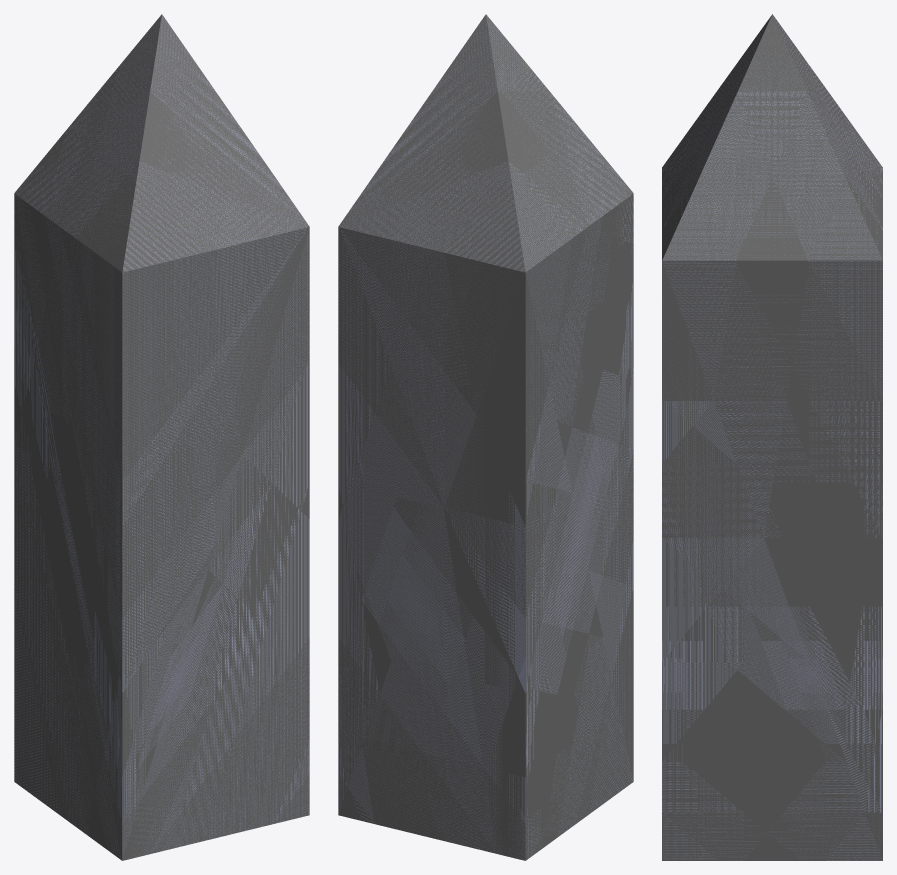
Rendered from Obelisk.dae.
3 renders of one model, left to right at view 1: azimuth 30°, elevation 25°; view 2: azimuth 150°, elevation 25°; view 3: azimuth 270°, elevation 25°, orthographic. The views are drawn at different scales.
Parts seen in each view (by area): view 1: SketchUp (×2); view 2: SketchUp; view 3: SketchUp (×2).
Boxes of the visible parts, left/top/right/bottom form: SketchUp (×2): left=14, top=14, right=309, bottom=860; SketchUp: left=338, top=14, right=633, bottom=860; SketchUp (×2): left=662, top=14, right=882, bottom=860.
Size of the model in its own units: 0.3937 by 0.3937 by 1.57.
